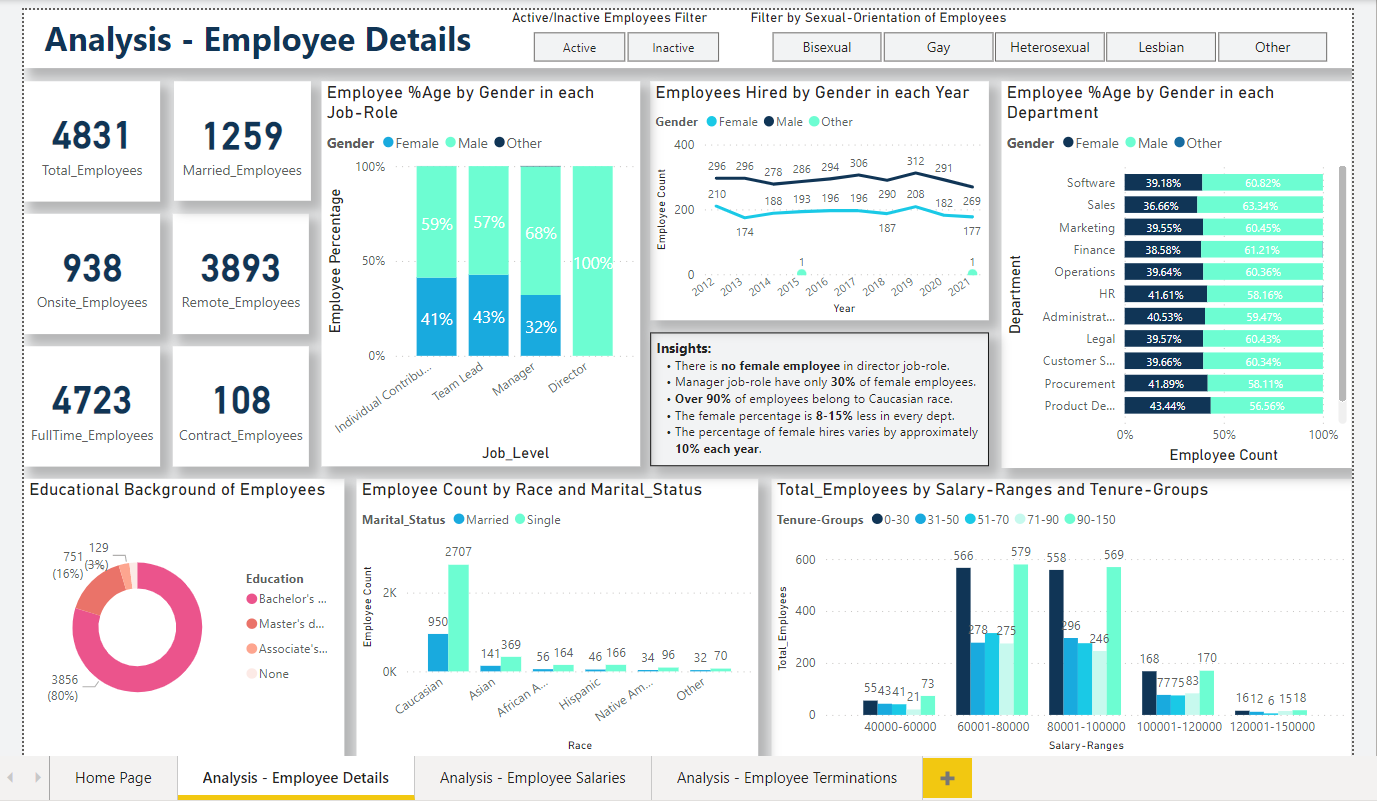

What the dashboard file says about the page in this screenshot:
{"tool":"powerbi","page":{"name":"Analysis - Employee Details","canvas":[1280,720],"ordinal":1},"visuals":[{"type":"textbox","box":[0,0,1280,56.2],"z":0},{"type":"card","fields":{"Values":["Calculations.Total_Employees"]},"box":[0,68.7,131.5,115.8],"z":1000},{"type":"card","fields":{"Values":["Calculations.Onsite_Employees"]},"box":[0,196.6,131.5,115.8],"z":2000},{"type":"card","fields":{"Values":["Calculations.Remote_Employees"]},"box":[143.5,196.6,131.5,115.8],"z":3000},{"type":"card","fields":{"Values":["Calculations.FullTime_Employees"]},"box":[0,324.4,131.5,115.8],"z":4000},{"type":"card","fields":{"Values":["Calculations.Contract_Employees"]},"box":[143.5,324.4,131.5,115.8],"z":5000},{"type":"card","fields":{"Values":["Calculations.Active_Married_Employees"]},"box":[144.1,68.6,131.7,115.2],"z":7000},{"type":"clusteredColumnChart","title":"Total_Employees by Salary-Ranges and Tenure-Groups","fields":{"Category":["people_analytics_start.salary-range"],"Y":["CountNonNull(people_analytics_start.employee_id)"],"Series":["people_analytics_start.tenure-group"]},"box":[720,452.3,559.6,267.7],"z":8000},{"type":"lineChart","title":"Employees Hired by Gender in each Year","fields":{"Category":["people_analytics_start.Year"],"Series":["people_analytics_start.gender"],"Y":["CountNonNull(people_analytics_start.employee_id)"]},"box":[603.8,68.8,326.2,230],"z":9000},{"type":"donutChart","title":"Educational Background of Employees","fields":{"Y":["CountNonNull(people_analytics_start.employee_id)"],"Category":["people_analytics_start.education","people_analytics_start.job_level"]},"box":[0,452.3,308.7,267.7],"z":10000},{"type":"clusteredColumnChart","fields":{"Category":["people_analytics_start.race"],"Y":["CountNonNull(people_analytics_start.employee_id)"],"Series":["people_analytics_start.marital_status"]},"box":[320.8,452.3,387.1,267.7],"z":11000},{"type":"hundredPercentStackedBarChart","title":"Employee %Age by Gender in each Department","fields":{"Category":["people_analytics_start.department"],"Y":["CountNonNull(people_analytics_start.employee_id)"],"Series":["people_analytics_start.gender"]},"box":[941.9,68.7,337.7,372.7],"z":12000},{"type":"hundredPercentStackedColumnChart","title":"Employee %Age by Gender in each Job-Role","fields":{"Category":["people_analytics_start.job_level"],"Y":["CountNonNull(people_analytics_start.employee_id)"],"Series":["people_analytics_start.gender"]},"box":[287,68.7,307.5,371.5],"z":13000},{"type":"textbox","box":[603.8,311.2,326.2,128.8],"z":14000},{"type":"slicer","title":"Filter by Sexual-Orientation of Employees","fields":{"Values":["people_analytics_start.sexual_orientation"]},"box":[695,0,585,56.2],"z":15000},{"type":"slicer","title":"Active/Inactive Employees Filter","fields":{"Values":["people_analytics_start.Active/Inactive Employees"]},"box":[465.5,0,229.1,56.7],"z":15001}]}

Visuals, with their boxes on the page's 1280x720 design canvas (x1, y1, x2, y2). These are canvas units, not pixel positions in the 1377x801 screenshot, which may show the page scaled, cropped or inside an application window:
textbox: 0,0,1280,56
card - Calculations.Total_Employees: 0,69,132,184
card - Calculations.Onsite_Employees: 0,197,132,312
card - Calculations.Remote_Employees: 144,197,275,312
card - Calculations.FullTime_Employees: 0,324,132,440
card - Calculations.Contract_Employees: 144,324,275,440
card - Calculations.Active_Married_Employees: 144,69,276,184
"Total_Employees by Salary-Ranges and Tenure-Groups" clusteredColumnChart: 720,452,1280,720
"Employees Hired by Gender in each Year" lineChart: 604,69,930,299
"Educational Background of Employees" donutChart: 0,452,309,720
clusteredColumnChart - people_analytics_start.race x CountNonNull(people_analytics_start.employee_id): 321,452,708,720
"Employee %Age by Gender in each Department" hundredPercentStackedBarChart: 942,69,1280,441
"Employee %Age by Gender in each Job-Role" hundredPercentStackedColumnChart: 287,69,594,440
textbox: 604,311,930,440
"Filter by Sexual-Orientation of Employees" slicer: 695,0,1280,56
"Active/Inactive Employees Filter" slicer: 466,0,695,57
